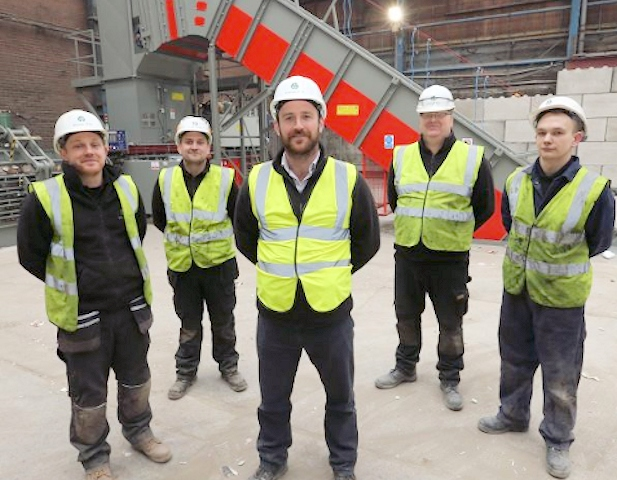Helmet: (265, 74, 342, 156), (48, 104, 120, 182), (530, 95, 596, 163), (411, 82, 467, 140), (171, 112, 220, 172)
Reflective vest: (21, 173, 154, 332), (248, 153, 361, 316), (504, 161, 610, 309), (389, 139, 488, 255), (155, 163, 239, 275)
